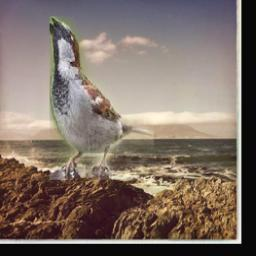Sparrow: (49, 17, 153, 181)
